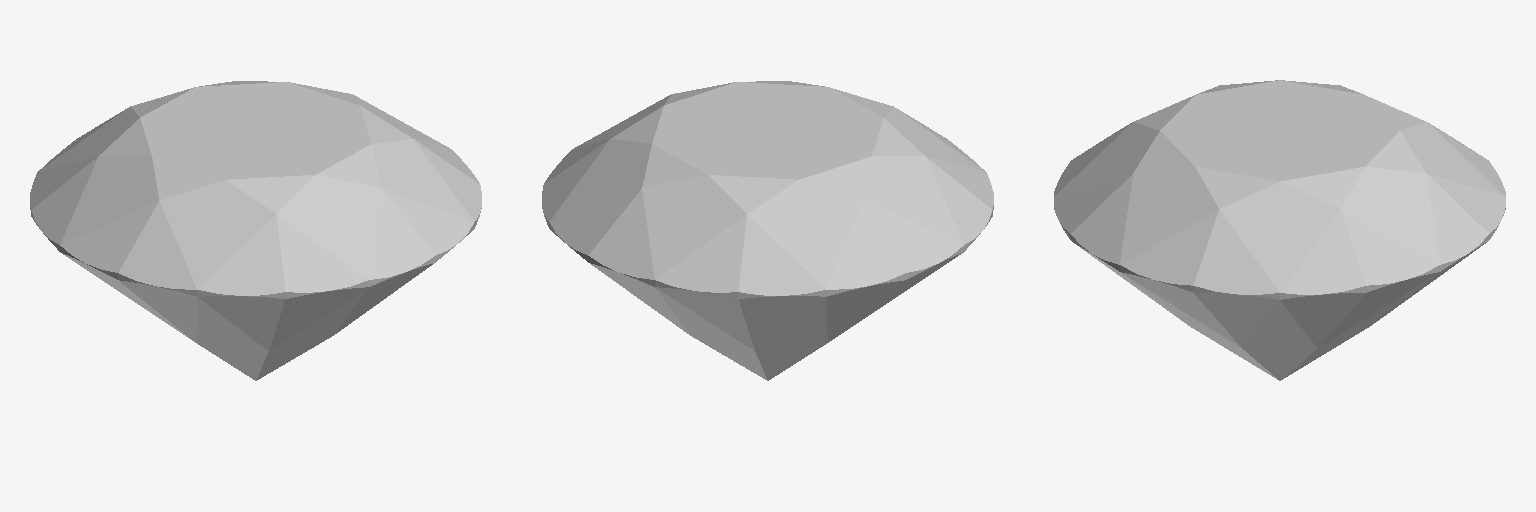
File: sapphire.obj
3 renders of one model, left to right at view 1: azimuth 30°, elevation 25°; view 2: azimuth 150°, elevation 25°; view 3: azimuth 270°, elevation 25°, orthographic.
Visible parts, largest first — view 1: diamondblue_dmesh.001; view 2: diamondblue_dmesh.001; view 3: diamondblue_dmesh.001.
Boxes of the visible parts, box(x1,y1,x2,y2) form: diamondblue_dmesh.001: box(30, 81, 481, 380); diamondblue_dmesh.001: box(542, 81, 993, 380); diamondblue_dmesh.001: box(1054, 80, 1505, 380).
Bounding box in the file's own units: 2 × 1.22 × 2.